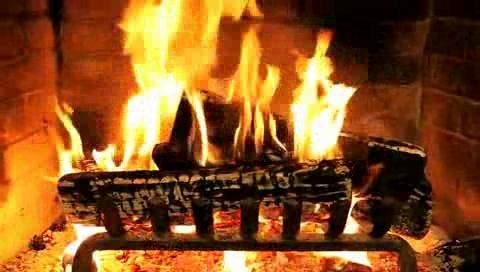fire: (113, 6, 347, 163)
